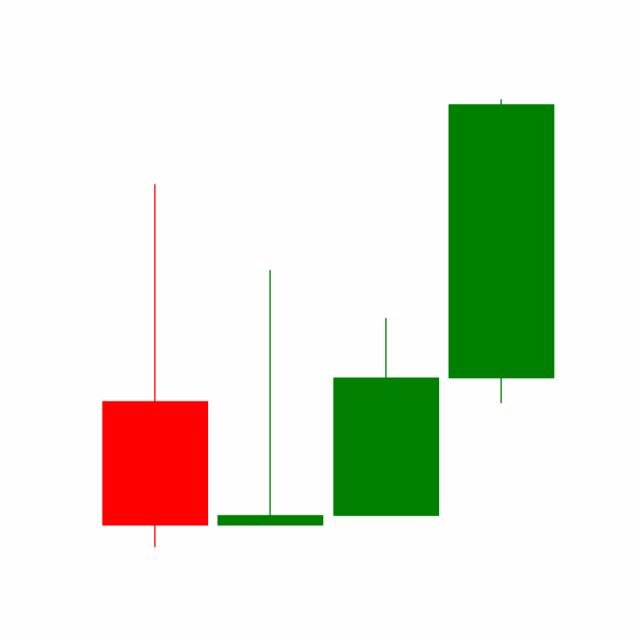Marubozu: (443, 96, 559, 407)
